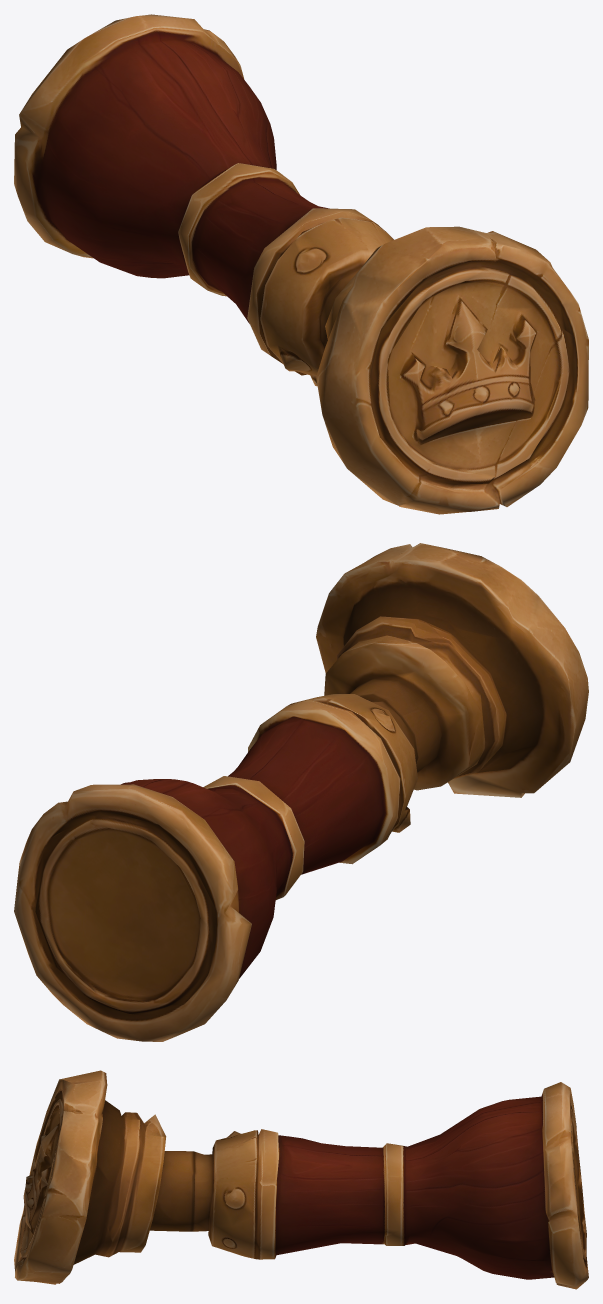
File: stamp_for_wax_seal_animation.fbx
3 views of the same model, one above another, from view 1: azimuth 30°, elevation 25°; view 2: azimuth 150°, elevation 25°; view 3: azimuth 270°, elevation 25° (orthographic). The views are drawn at different scales.
Visible parts, largest first — view 1: tripo_node_d95a0768; view 2: tripo_node_d95a0768; view 3: tripo_node_d95a0768.
Boxes of the visible parts, left/top/right/bottom form: tripo_node_d95a0768: left=14, top=14, right=588, bottom=514; tripo_node_d95a0768: left=14, top=543, right=588, bottom=1041; tripo_node_d95a0768: left=14, top=1070, right=588, bottom=1289.
Bounding box in the file's own units: 39.25 × 100 × 38.11.
Materials: 1 (1 with a texture image).
